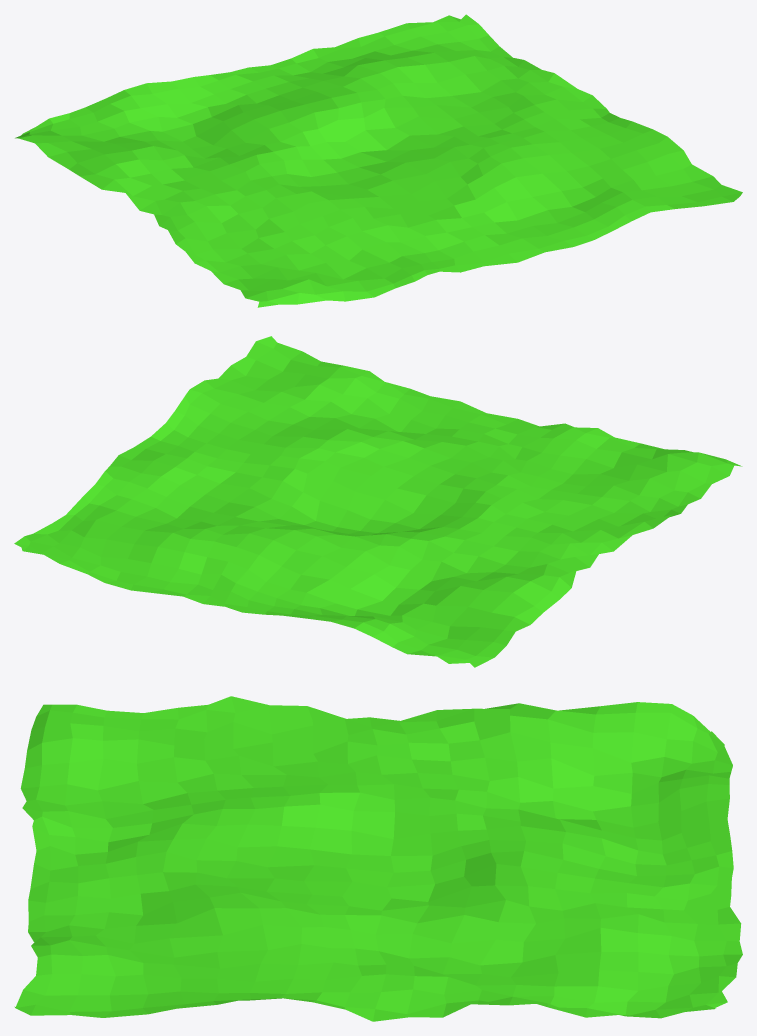
File: ground.fbx
The picture shows the model from 3 angles, top to bottom: view 1: azimuth 30°, elevation 25°; view 2: azimuth 150°, elevation 25°; view 3: azimuth 270°, elevation 25°; orthographic projection. The views are drawn at different scales.
Parts seen in each view (by area): view 1: Plane; view 2: Plane; view 3: Plane.
Part boxes in pixels (x1=…): Plane: x1=15, y1=14, x2=742, y2=307; Plane: x1=14, y1=336, x2=742, y2=667; Plane: x1=14, y1=696, x2=742, y2=1021.
Size of the model in its own units: 6326 by 312 by 6163.
